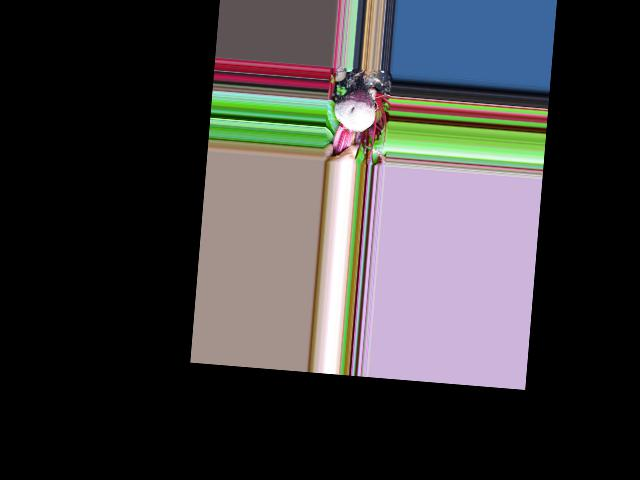beet: (330, 66, 379, 159)
